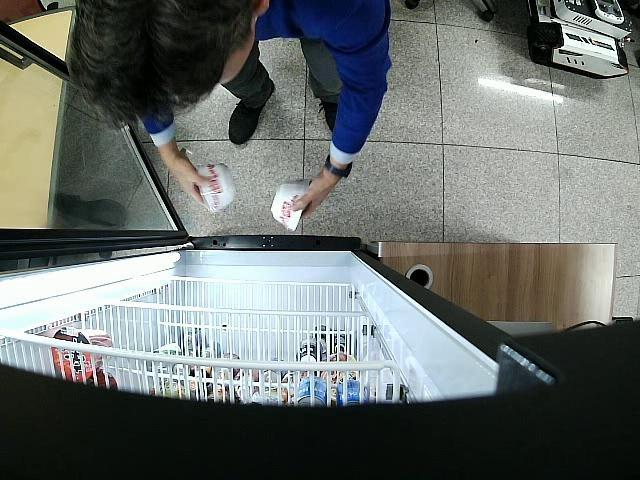09_yukGaeJang: (270, 178, 312, 231), (196, 163, 238, 213)
